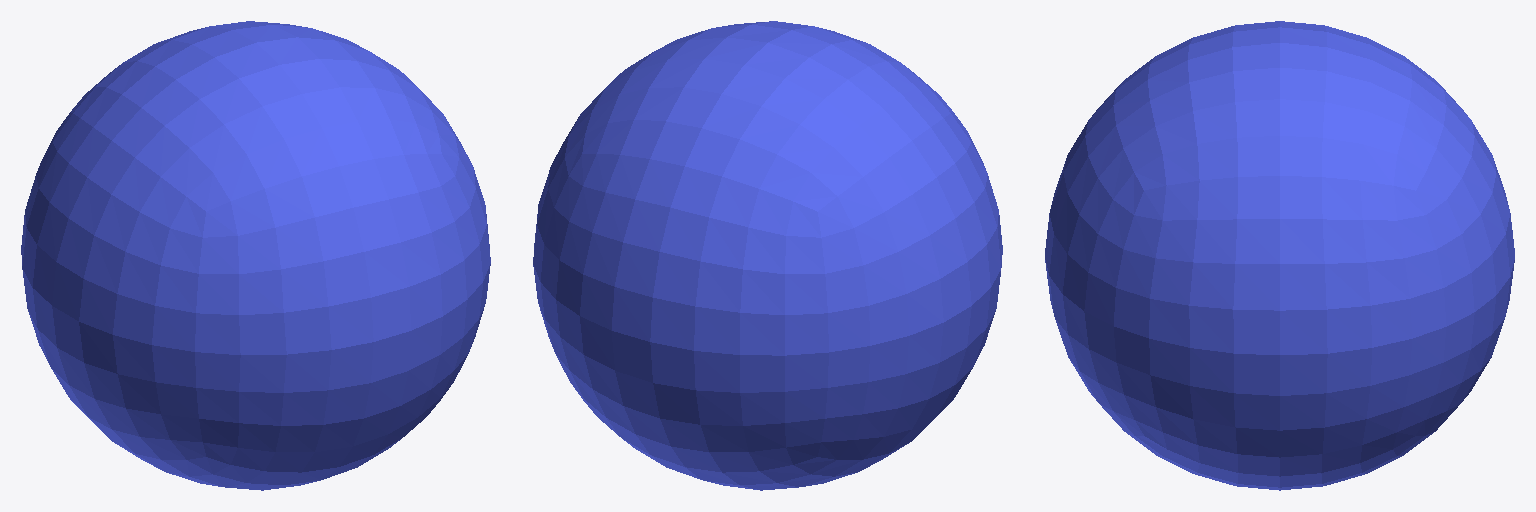
Rendered from Island Top.obj.
The picture shows the model from 3 angles: view 1: azimuth 30°, elevation 25°; view 2: azimuth 150°, elevation 25°; view 3: azimuth 270°, elevation 25°; orthographic projection.
Parts seen in each view (by area): view 1: Island Top; view 2: Island Top; view 3: Island Top.
Part boxes in pixels (x1,y1,x2,y2): Island Top: (21,21,490,490); Island Top: (533,21,1002,490); Island Top: (1045,21,1514,490).
Size of the model in its own units: 1 by 1 by 1.